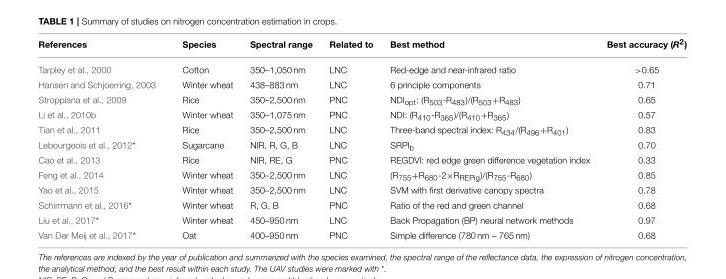table: (37, 37, 686, 239)
table column: (380, 37, 597, 239), (37, 37, 168, 239), (597, 37, 686, 239), (240, 37, 320, 239), (168, 37, 240, 239), (320, 37, 380, 239)
table column header: (37, 37, 686, 56)
table row: (37, 56, 686, 77), (37, 37, 686, 56), (37, 92, 686, 108), (37, 167, 686, 183), (37, 77, 686, 92), (37, 108, 686, 123), (37, 123, 686, 138), (37, 138, 686, 153), (37, 197, 686, 212), (37, 212, 686, 227), (37, 153, 686, 167), (37, 183, 686, 197), (37, 227, 686, 239)
